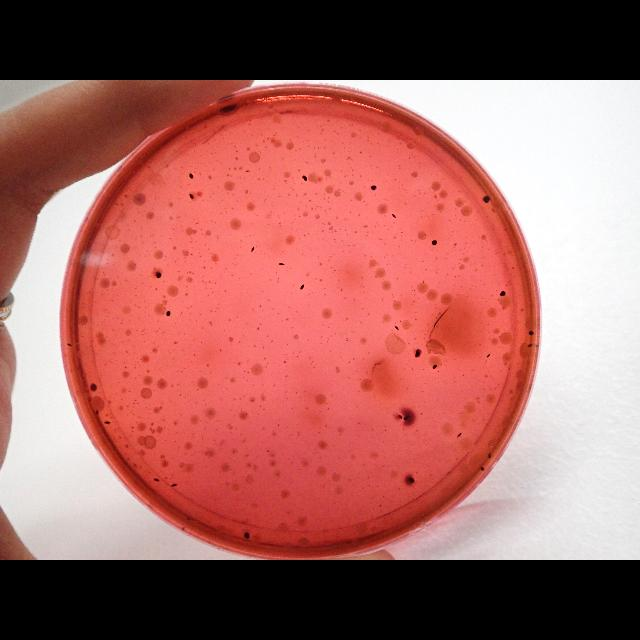colony: (217, 102, 241, 116), (406, 475, 416, 485), (88, 382, 98, 392), (414, 347, 422, 359), (482, 194, 492, 203), (154, 271, 164, 279), (369, 184, 378, 192), (164, 310, 172, 318), (430, 239, 438, 247), (390, 212, 398, 220), (526, 342, 534, 350), (456, 430, 464, 438), (300, 282, 306, 292), (243, 532, 250, 540), (188, 192, 194, 200), (302, 175, 308, 183), (189, 172, 195, 180), (396, 414, 404, 420), (402, 414, 408, 422), (170, 482, 178, 488), (152, 477, 160, 483), (250, 245, 256, 252), (499, 290, 506, 296), (528, 329, 534, 336), (479, 465, 485, 471), (66, 342, 72, 348), (394, 325, 400, 331), (277, 262, 285, 266), (486, 352, 490, 360), (487, 451, 491, 459), (103, 420, 111, 424), (96, 409, 100, 417), (432, 364, 436, 370), (146, 369, 150, 373), (150, 422, 154, 426), (174, 341, 178, 345), (171, 384, 173, 388), (132, 402, 136, 404), (128, 390, 132, 392), (124, 366, 128, 368), (185, 396, 188, 398), (132, 426, 134, 429), (180, 312, 182, 314), (180, 314, 182, 316), (169, 352, 171, 354), (163, 331, 165, 333), (187, 365, 189, 367), (184, 367, 186, 369), (177, 384, 179, 386), (179, 394, 181, 396), (196, 402, 198, 404), (197, 389, 199, 391), (145, 406, 147, 408), (137, 403, 139, 405), (134, 399, 136, 401), (132, 430, 134, 432), (193, 354, 194, 356), (205, 404, 207, 404)
